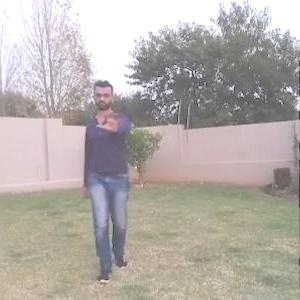follow_hand: (97, 104, 123, 133)
